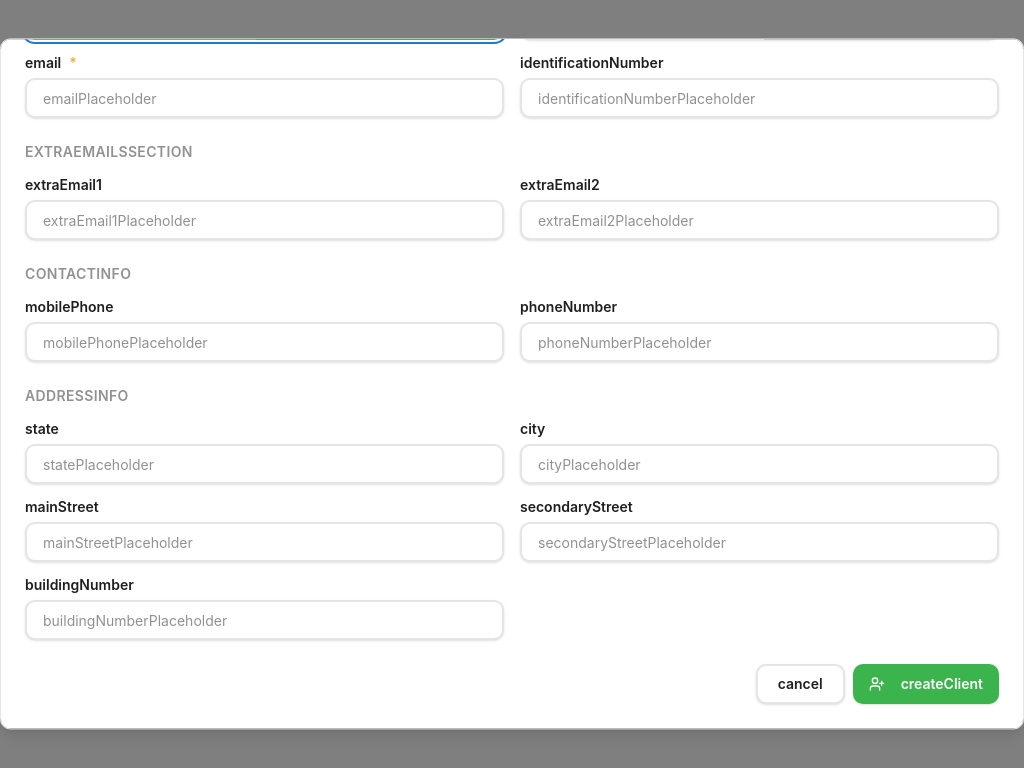
AddClientDialog › clears validation error when user types in errored field
The image size is (1024, 768).
(page scrolled)
Click the button "createClient". click: (926, 684)
box: [853, 664, 999, 704]
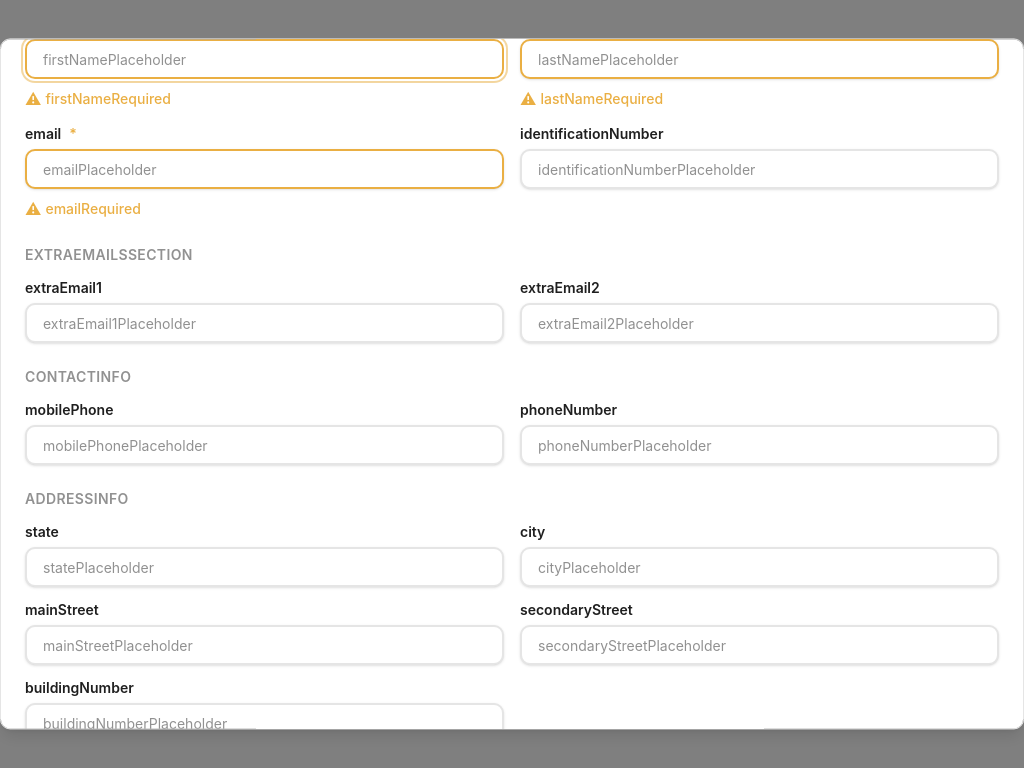
Expected: the text "firstNameRequired" is shown, [45, 90, 171, 107]
Type "J" into the field labelled "firstName *". click: (264, 59)
box: [25, 39, 504, 79]
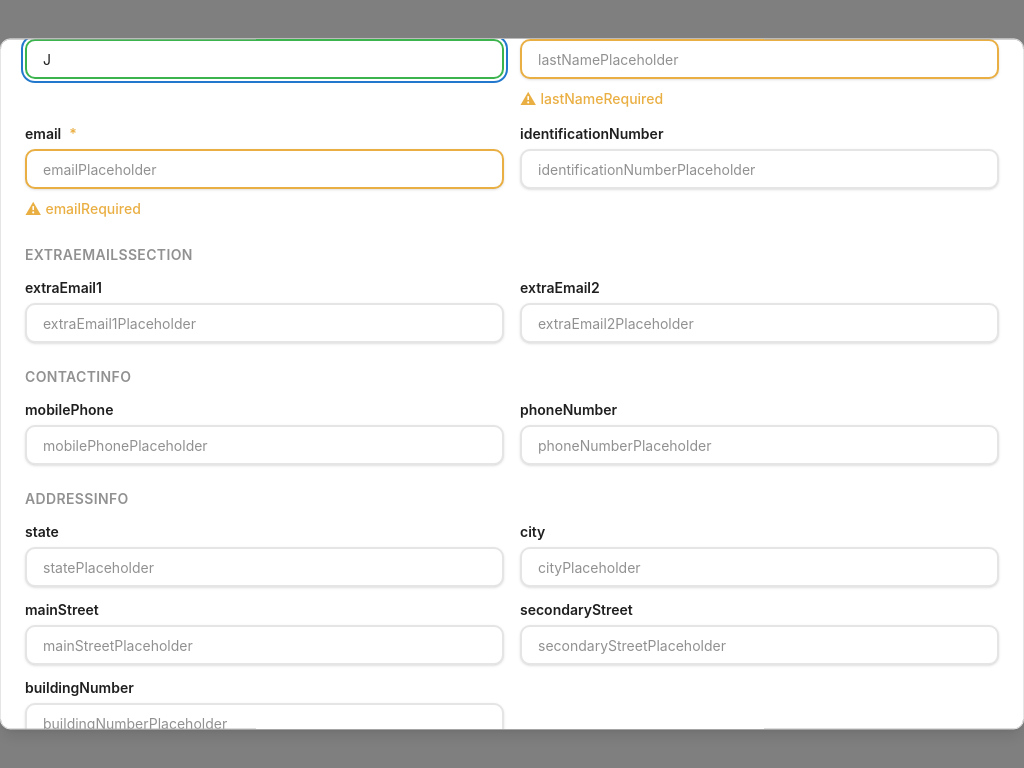
Expected: the text "firstNameRequired" is gone
